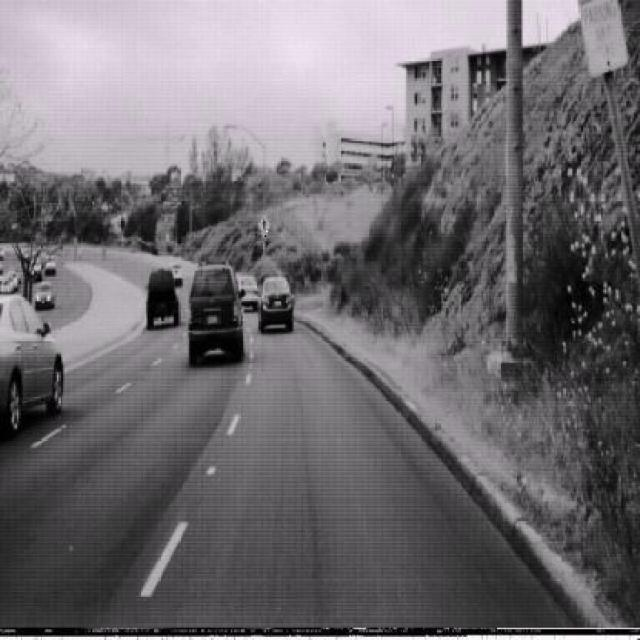pedestrianCrossing: (256, 209, 270, 240)
